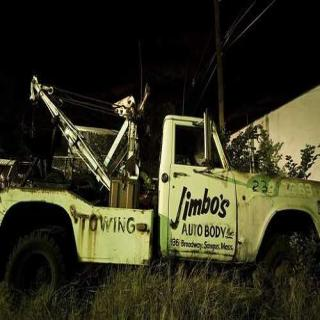Towing_truck: (1, 70, 318, 301)
